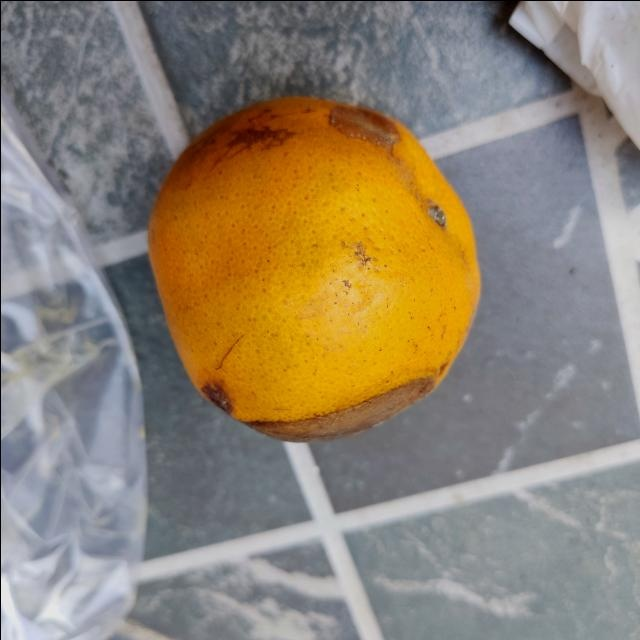agrume: (142, 84, 485, 448)
